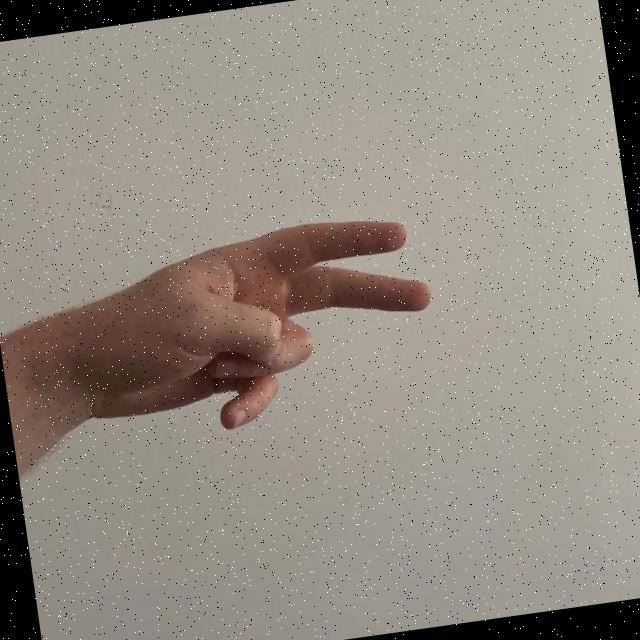scissors: (82, 200, 444, 453)
